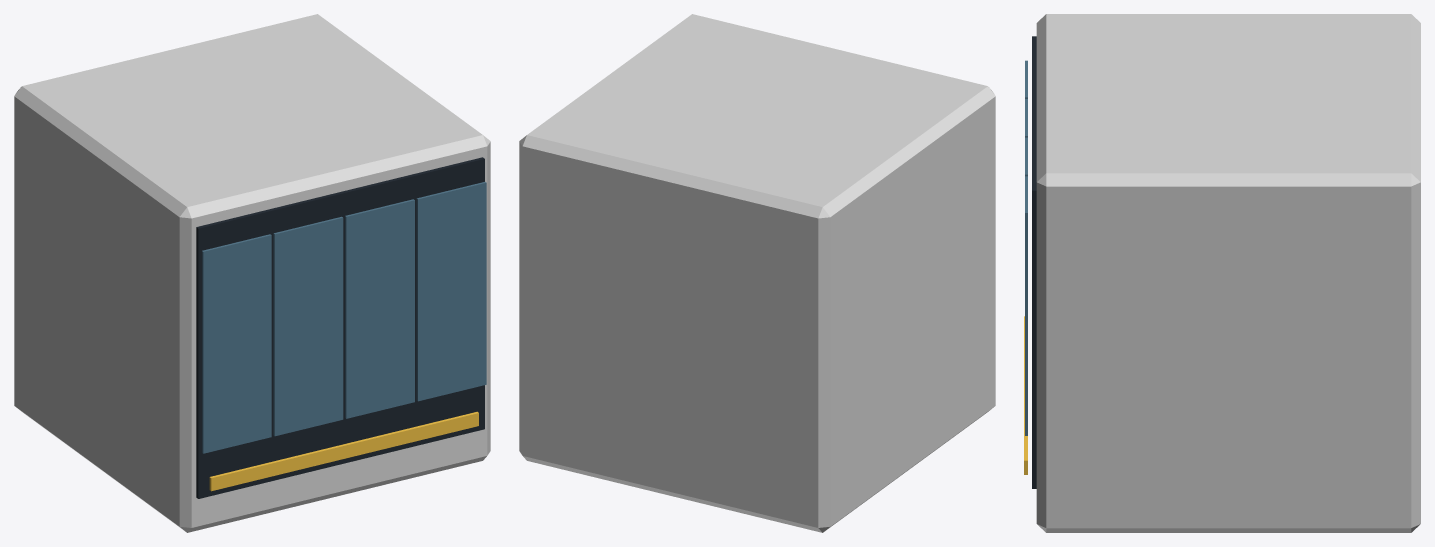
File: screen.glb
The picture shows the model from 3 angles, left to right: view 1: azimuth 30°, elevation 25°; view 2: azimuth 150°, elevation 25°; view 3: azimuth 270°, elevation 25°; orthographic projection. The views are drawn at different scales.
Visible parts, largest first — view 1: beret/panel-unit; view 2: beret/panel-unit; view 3: beret/panel-unit.
Boxes of the visible parts, x1,y1,x2,y2 form: beret/panel-unit: [14, 14, 490, 532]; beret/panel-unit: [519, 14, 995, 532]; beret/panel-unit: [1024, 14, 1420, 532].
Bounding box in the file's own units: 1 × 1 × 1.
